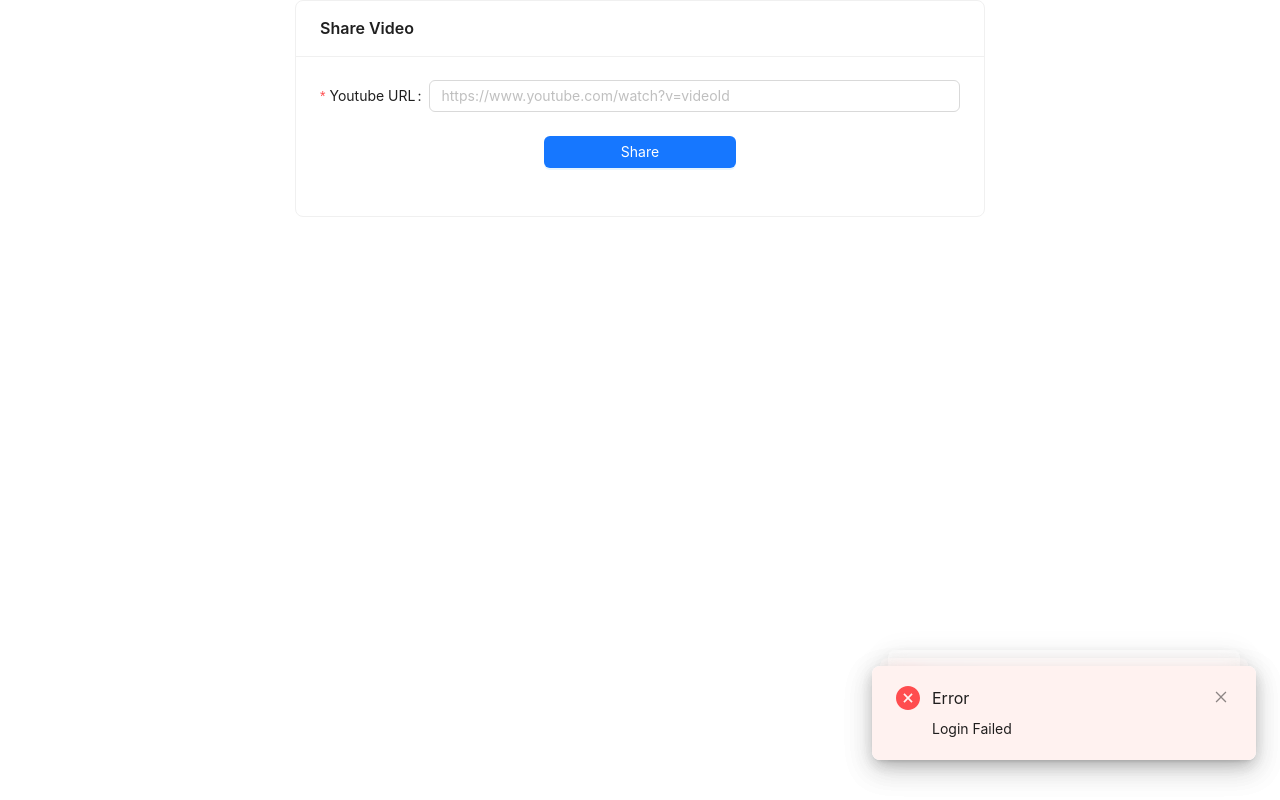
Test: renders Share Video Page › ShareVideo with youtube url are invalid
Type "https://www.youtube.com" into the field labelled "Youtube URL" at (695, 96), box [430,80,960,112]
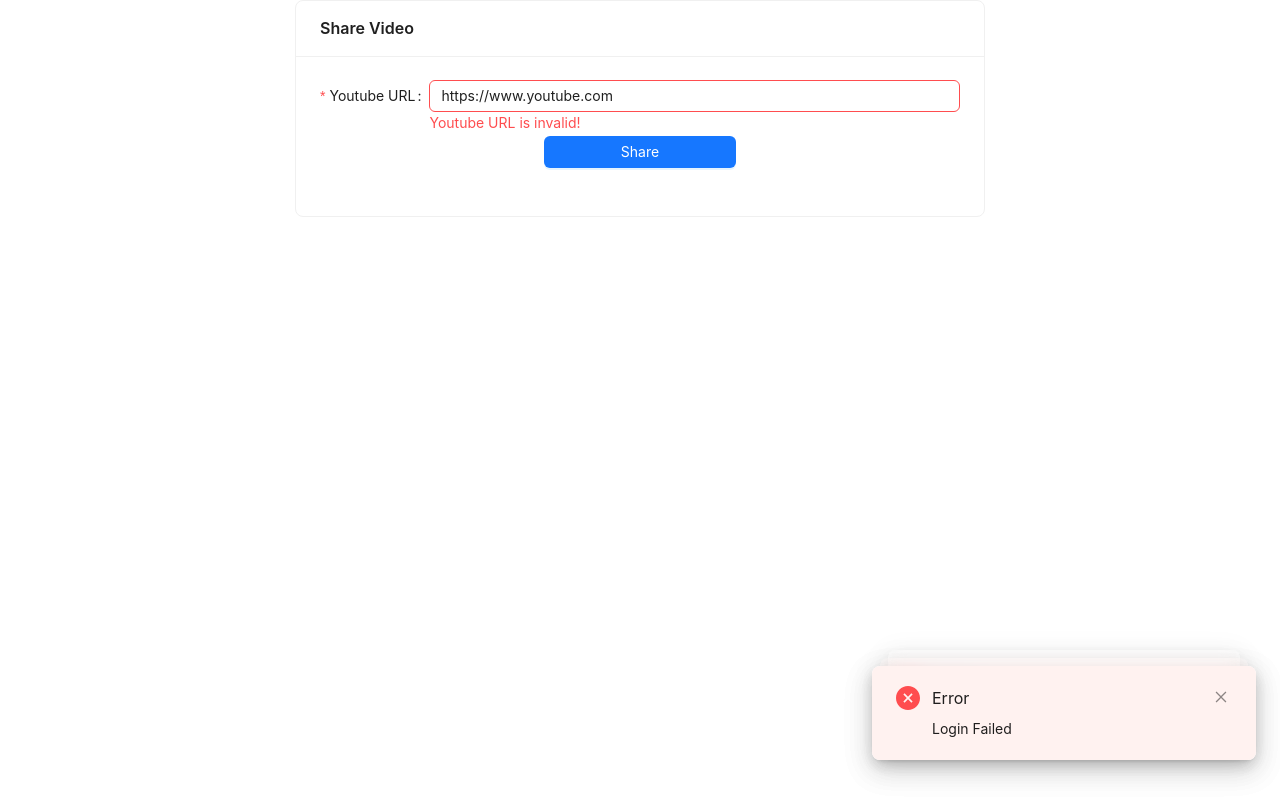
Now the text "Youtube URL is invalid!" is shown, box [430,114,581,131]
